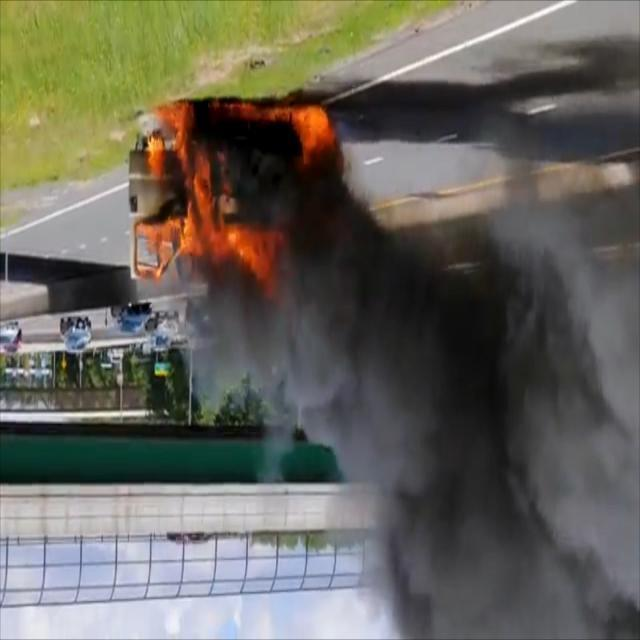fire: (131, 95, 342, 300)
